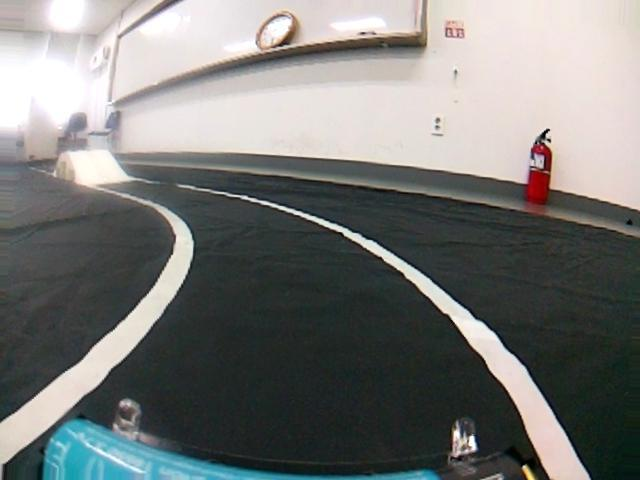straight: (0, 230, 625, 477)
